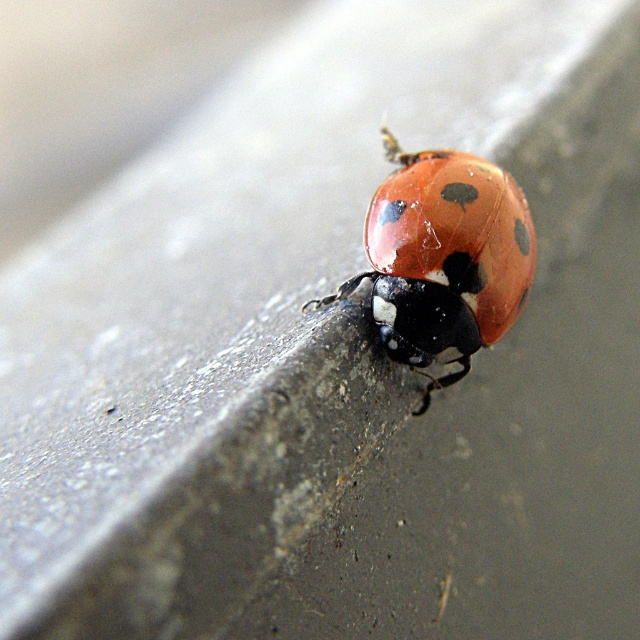Ladybug: (299, 125, 536, 418)
